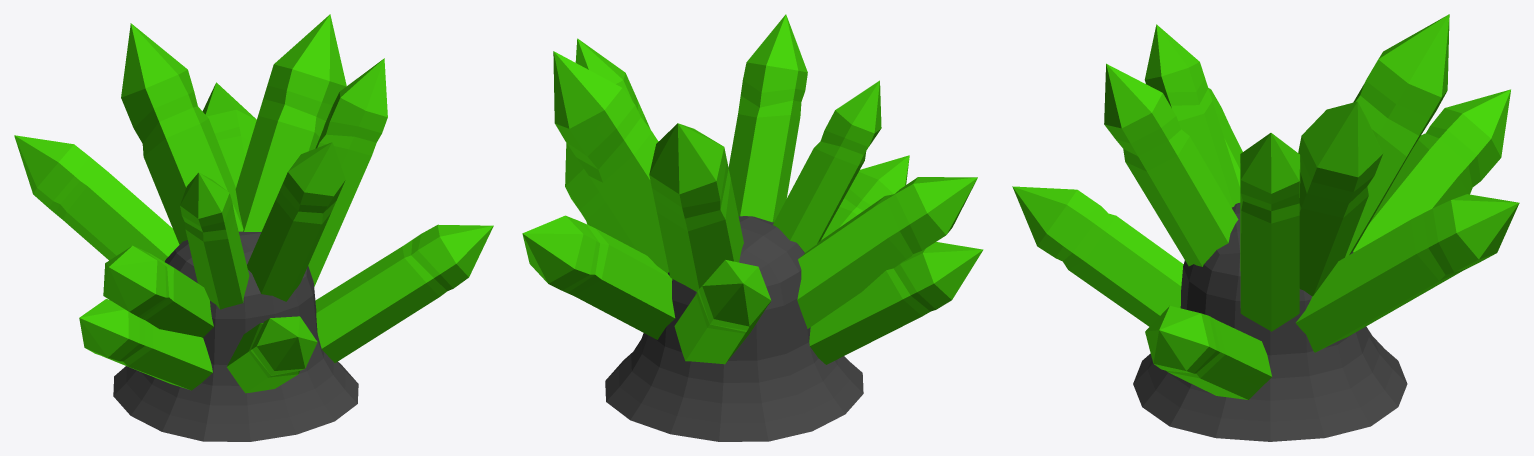
Rendered from mine1.glb.
The picture shows the model from 3 angles, left to right: view 1: azimuth 30°, elevation 25°; view 2: azimuth 150°, elevation 25°; view 3: azimuth 270°, elevation 25°; orthographic projection. The views are drawn at different scales.
Parts seen in each view (by area): view 1: Mineral; view 2: Mineral; view 3: Mineral.
Part boxes in pixels (left/top/right/bottom): Mineral: left=14, top=14, right=493, bottom=441; Mineral: left=522, top=14, right=983, bottom=441; Mineral: left=1012, top=14, right=1519, bottom=441.
Size of the model in its own units: 3.05 by 2.26 by 2.93.
